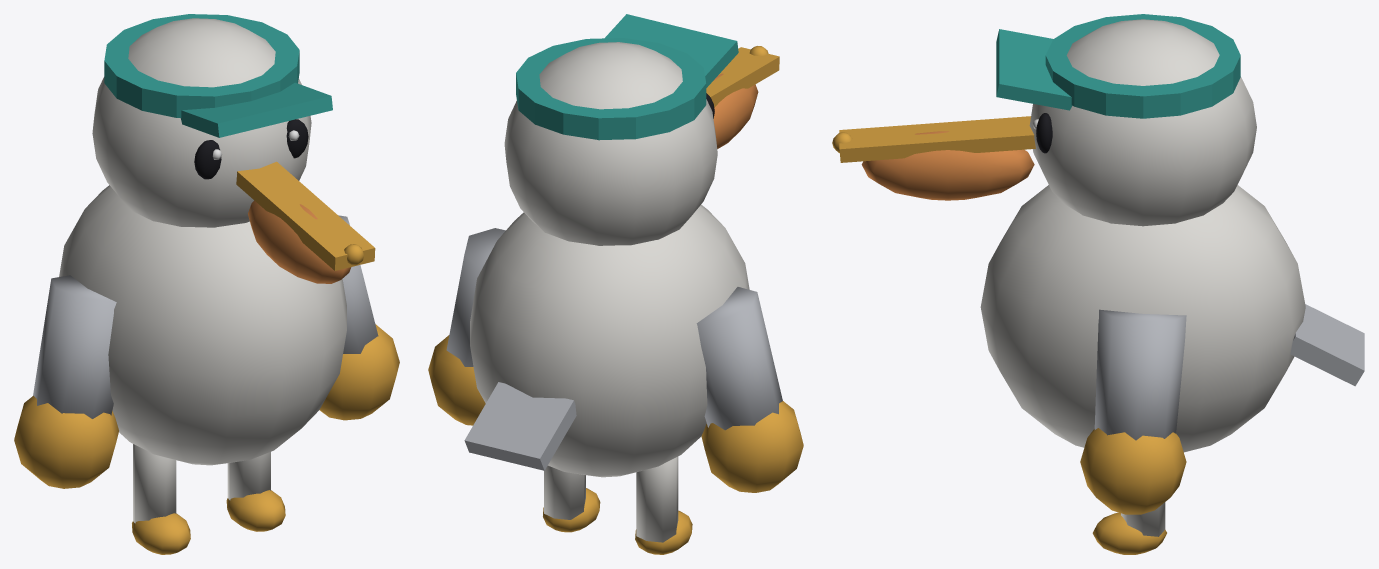
The model's file is pelican.glb.
The picture shows the model from 3 angles, left to right: view 1: azimuth 30°, elevation 25°; view 2: azimuth 150°, elevation 25°; view 3: azimuth 270°, elevation 25°; orthographic projection. The views are drawn at different scales.
Visible parts, largest first — view 1: body, head, arm_R, hat, beak, arm_L, leg_R, leg_L; view 2: body, head, arm_R, hat, feathers, arm_L, leg_R, beak, leg_L; view 3: body, head, arm_L, hat, beak, feathers, leg_L.
Boxes of the visible parts, x1,y1,x2,y2 form: body: (59, 185, 346, 465); head: (92, 18, 311, 227); arm_R: (14, 275, 118, 488); hat: (104, 14, 332, 137); beak: (236, 161, 375, 283); arm_L: (319, 215, 399, 420); leg_R: (132, 444, 190, 554); leg_L: (226, 452, 285, 531); body: (470, 204, 749, 477); head: (504, 42, 717, 245); arm_R: (696, 287, 803, 492); hat: (516, 14, 738, 140); feathers: (464, 382, 576, 470); arm_L: (428, 228, 505, 425); leg_R: (635, 456, 692, 554); beak: (706, 46, 779, 148); leg_L: (543, 465, 600, 532); body: (980, 185, 1305, 452); head: (1029, 19, 1256, 226); arm_L: (1080, 309, 1186, 514); hat: (996, 14, 1240, 118); beak: (832, 116, 1035, 200); feathers: (1290, 304, 1364, 386); leg_L: (1092, 502, 1166, 554).
Size of the model in its own units: 0.857 by 1.12 by 1.08.
